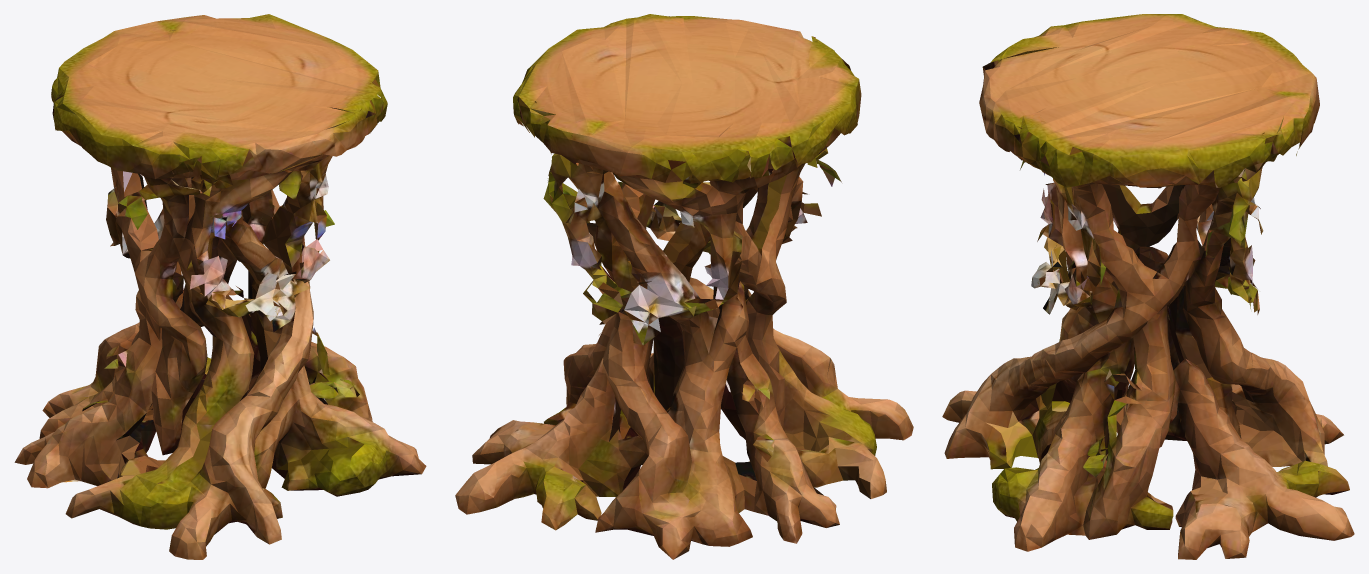
File: fairy_altar_1117.glb
3 renders of one model, left to right at view 1: azimuth 30°, elevation 25°; view 2: azimuth 150°, elevation 25°; view 3: azimuth 270°, elevation 25°, orthographic. The views are drawn at different scales.
Visible parts, largest first — view 1: world; view 2: world; view 3: world.
Part boxes in pixels (box(x1,y1,x2,y2)): world: box(14, 14, 426, 559); world: box(455, 14, 913, 559); world: box(942, 14, 1354, 559).
Size of the model in its own units: 0.9365 by 1 by 0.9444.
1 material, 1 textured.
